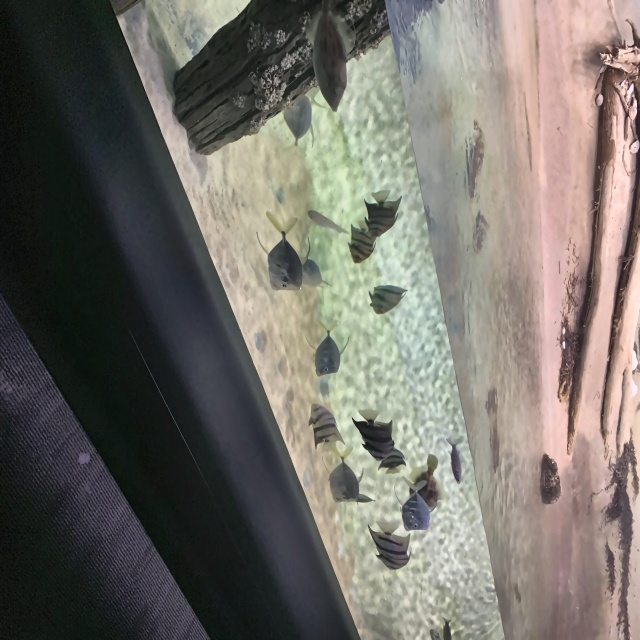fish: (304, 3, 355, 114), (255, 207, 312, 293), (303, 314, 350, 378), (323, 443, 366, 507), (366, 516, 413, 574), (351, 406, 395, 464), (276, 90, 314, 154), (394, 475, 433, 534), (361, 188, 403, 240), (409, 452, 444, 513), (307, 400, 345, 455), (346, 217, 380, 266), (367, 280, 410, 318), (295, 253, 333, 293), (306, 208, 350, 240), (302, 66, 331, 113), (444, 434, 464, 484), (377, 445, 406, 477), (339, 492, 376, 508)
